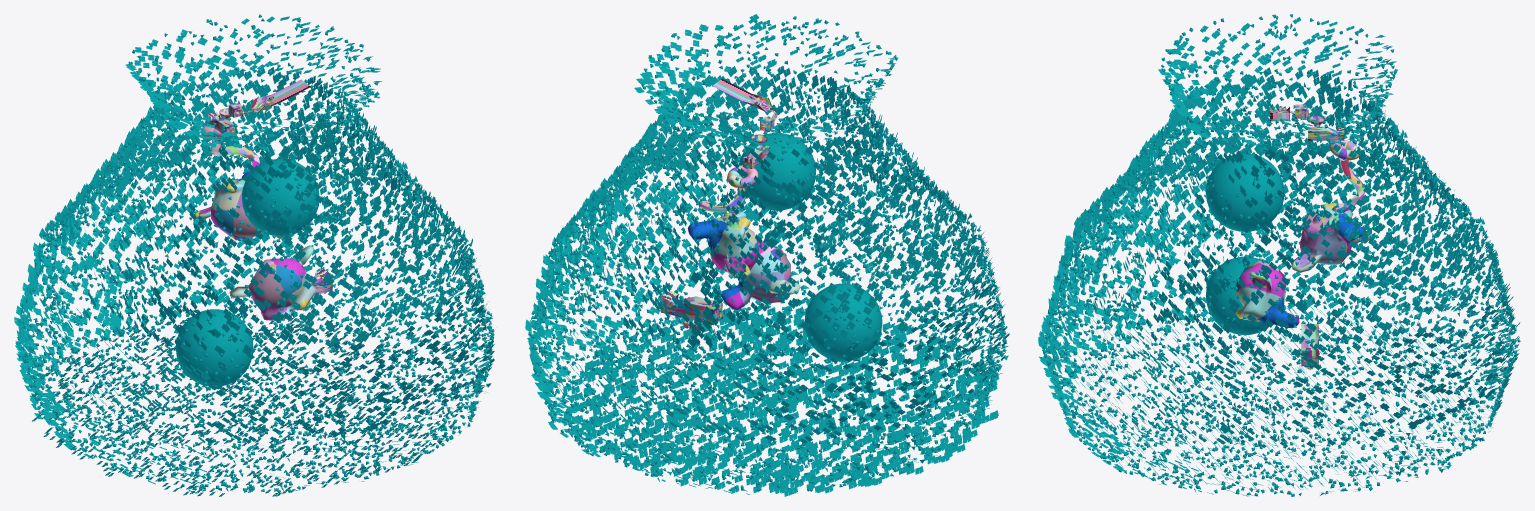
File: main_level.glb
3 views of the same model, side by side, from view 1: azimuth 30°, elevation 25°; view 2: azimuth 150°, elevation 25°; view 3: azimuth 270°, elevation 25° (orthographic).
Visible parts, largest first — view 1: Skybox.004, Skybox.003, Skybox.001, Skybox.002, Skybox, Sphere.003, Sphere.002, Suzanne.001, Suzanne, Cube.001; view 2: Skybox.004, Skybox.003, Skybox.001, Skybox.002, Skybox, Sphere.003, Sphere.002, Suzanne, Suzanne.001, Cube.006, Cube.001; view 3: Skybox.004, Skybox.003, Skybox.001, Skybox.002, Skybox, Sphere.002, Suzanne, Suzanne.001, Sphere.003, NurbsPath, Cube.006.
Part boxes in pixels (<box>): Skybox.004: <box>14,239,494,496</box>; Skybox.003: <box>15,167,494,443</box>; Skybox.001: <box>38,127,472,354</box>; Skybox.002: <box>89,67,421,271</box>; Skybox: <box>125,14,382,150</box>; Sphere.003: <box>175,309,253,386</box>; Sphere.002: <box>241,158,319,236</box>; Suzanne.001: <box>229,245,316,320</box>; Suzanne: <box>194,171,284,240</box>; Cube.001: <box>251,79,310,112</box>; Skybox.004: <box>527,238,1008,496</box>; Skybox.003: <box>525,170,1009,443</box>; Skybox.001: <box>550,125,985,354</box>; Skybox.002: <box>598,66,931,269</box>; Skybox: <box>634,14,898,150</box>; Sphere.003: <box>804,283,882,361</box>; Sphere.002: <box>739,132,816,210</box>; Suzanne: <box>687,211,759,278</box>; Suzanne.001: <box>720,241,800,309</box>; Cube.006: <box>660,290,722,325</box>; Cube.001: <box>712,78,772,111</box>; Skybox.004: <box>1039,242,1519,496</box>; Skybox.003: <box>1038,169,1520,447</box>; Skybox.001: <box>1060,127,1498,357</box>; Skybox.002: <box>1118,67,1448,270</box>; Skybox: <box>1158,14,1397,150</box>; Sphere.002: <box>1205,153,1284,231</box>; Suzanne: <box>1291,202,1369,272</box>; Suzanne.001: <box>1235,260,1299,327</box>; Sphere.003: <box>1205,256,1269,335</box>; NurbsPath: <box>1336,158,1364,213</box>; Cube.006: <box>1301,324,1318,366</box>.
Bounding box in the file's own units: 2298 × 1813 × 2291.
Materials: 3 (2 with a texture image).
